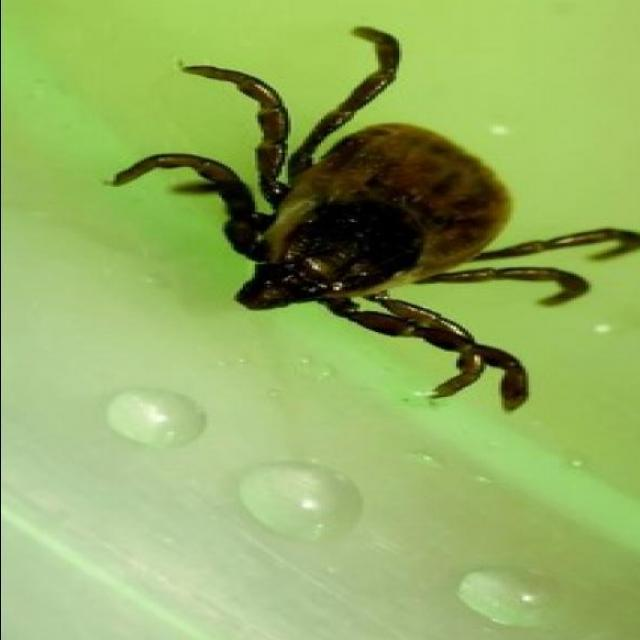Rhipicephalus Sanguineus-F: (109, 25, 640, 411)
